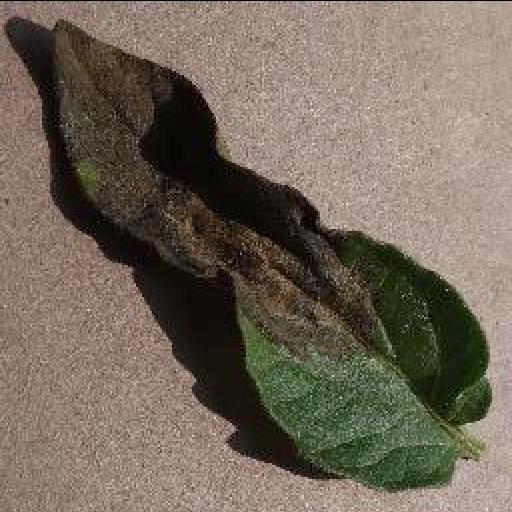disease_tomato: (50, 19, 488, 493)
